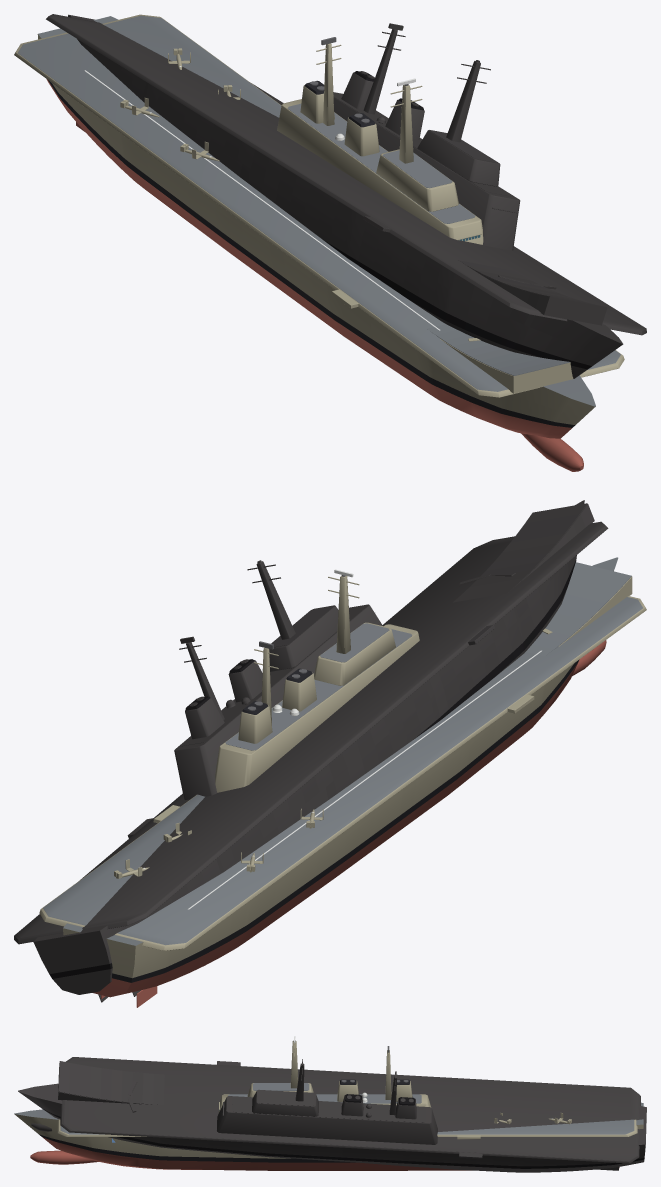
File: carrier__kri_sriwijaya_100.glb
3 views of the same model, one above another, from view 1: azimuth 30°, elevation 25°; view 2: azimuth 150°, elevation 25°; view 3: azimuth 270°, elevation 25° (orthographic). The views are drawn at different scales.
Visible parts, largest first — view 1: Hull_Mesh, Wreck; view 2: Wreck, Hull_Mesh; view 3: Wreck, Hull_Mesh.
Boxes of the visible parts, <box> form: Hull_Mesh: <box>14,14,624,471</box>; Wreck: <box>46,14,646,378</box>; Wreck: <box>14,500,608,1002</box>; Hull_Mesh: <box>39,557,646,1007</box>; Wreck: <box>18,1057,646,1172</box>; Hull_Mesh: <box>14,1041,643,1170</box>.
Size of what is drawn, in the model's own units: 44.56 by 45.82 by 189.
